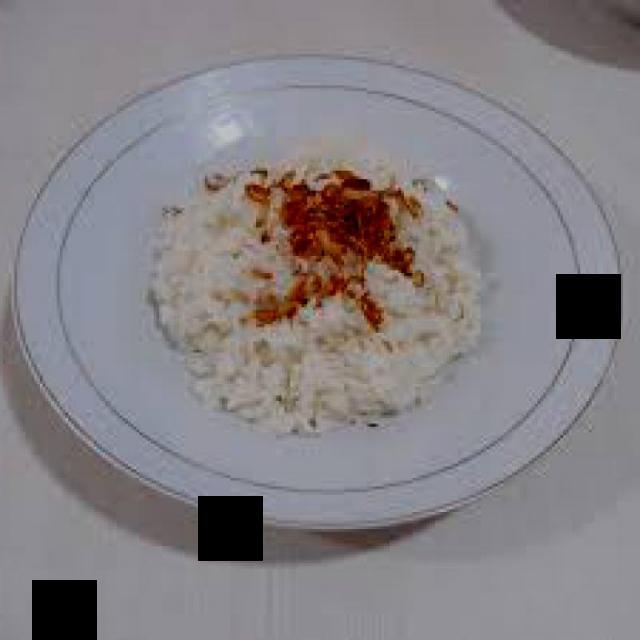rice: (151, 151, 482, 440)
